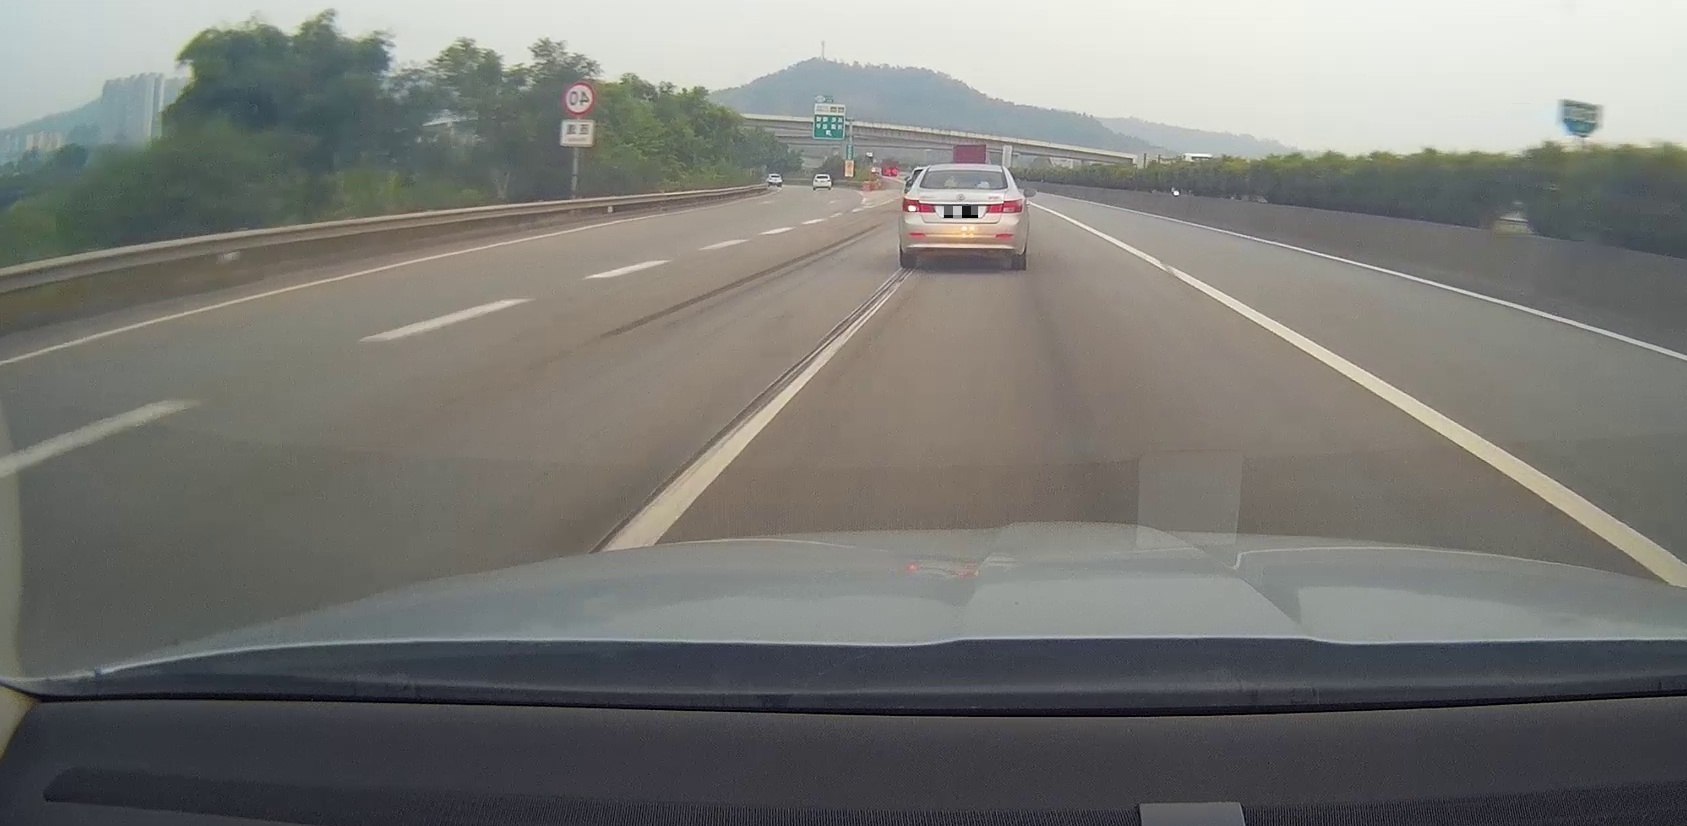L_light: (902, 197, 935, 213)
R_light: (986, 199, 1023, 214)
T_light: (955, 184, 972, 189)
day-left: (898, 163, 1027, 269)
plate_1: (944, 206, 978, 218)
